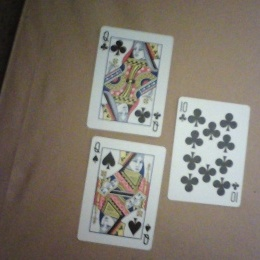card: (78, 135, 166, 251), (86, 24, 173, 137), (168, 96, 250, 208)
